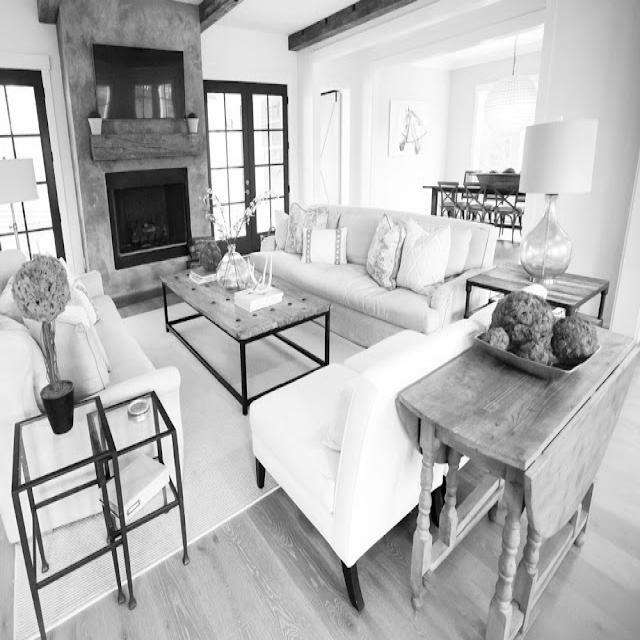table: (386, 320, 631, 488), (150, 244, 338, 362), (456, 238, 616, 314)
